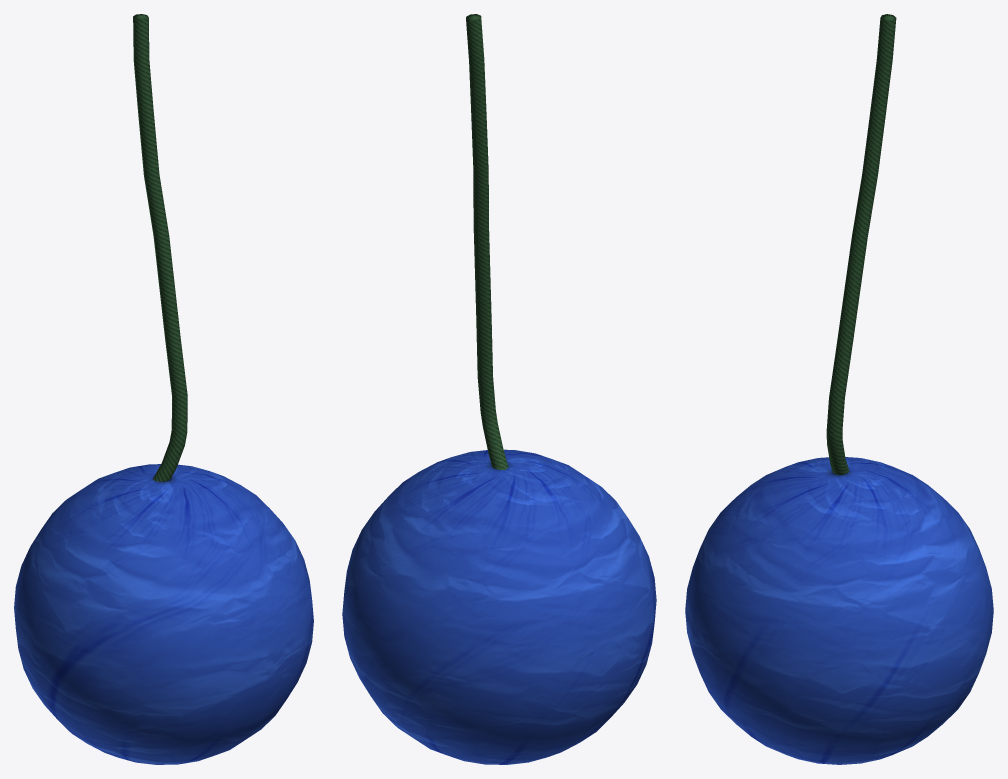
The model's file is bomb1.fbx.
The picture shows the model from 3 angles, left to right: view 1: azimuth 30°, elevation 25°; view 2: azimuth 150°, elevation 25°; view 3: azimuth 270°, elevation 25°; orthographic projection. The views are drawn at different scales.
Visible parts, largest first — view 1: polySurface1, polySurface5; view 2: polySurface1, polySurface5; view 3: polySurface1, polySurface5.
Part boxes in pixels (bbox=[...]): polySurface1: bbox=[14, 464, 313, 764]; polySurface5: bbox=[133, 14, 187, 481]; polySurface1: bbox=[342, 449, 656, 764]; polySurface5: bbox=[466, 14, 508, 469]; polySurface1: bbox=[685, 457, 993, 764]; polySurface5: bbox=[826, 14, 896, 474].
Size of the model in its own units: 8 by 21.01 by 8.
1 material, 1 textured.
